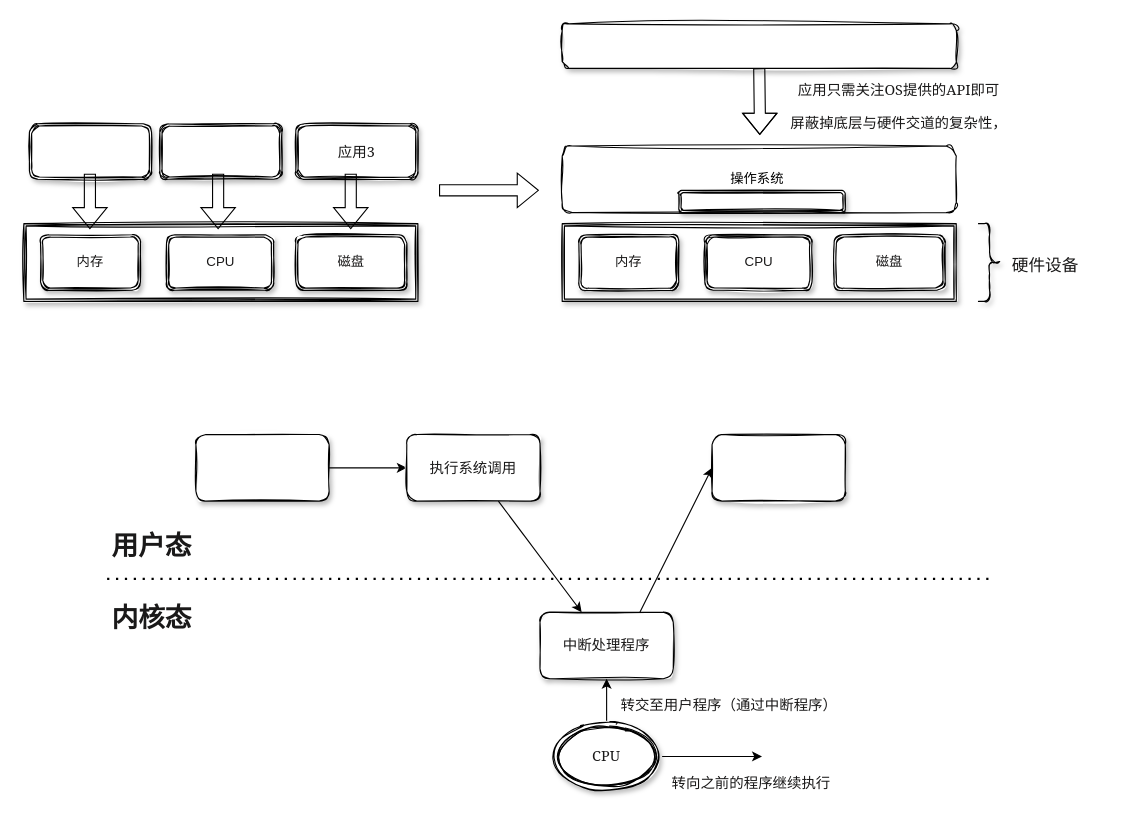
Image size: 1127x828. Some labels were removed from this diagram. The centre of each missing label's shape, as x and y in pixels:
"application 应用" belongs at point 760,47.
"Kernal" belongs at point 762,202.
"应用1" belongs at point 91,152.
"应用2" belongs at point 221,152.
"用户程序" belongs at point 263,469.
"系统调用返回" belongs at point 779,469.
